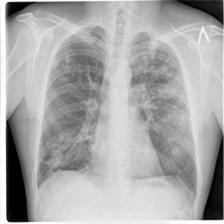tuberculosis: (29, 20, 203, 205)
